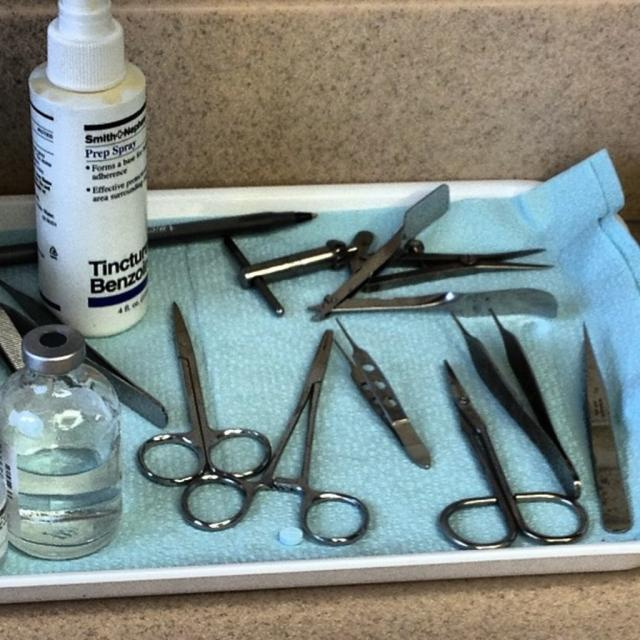scissors: (182, 329, 369, 547), (419, 353, 590, 556), (136, 301, 272, 531)
